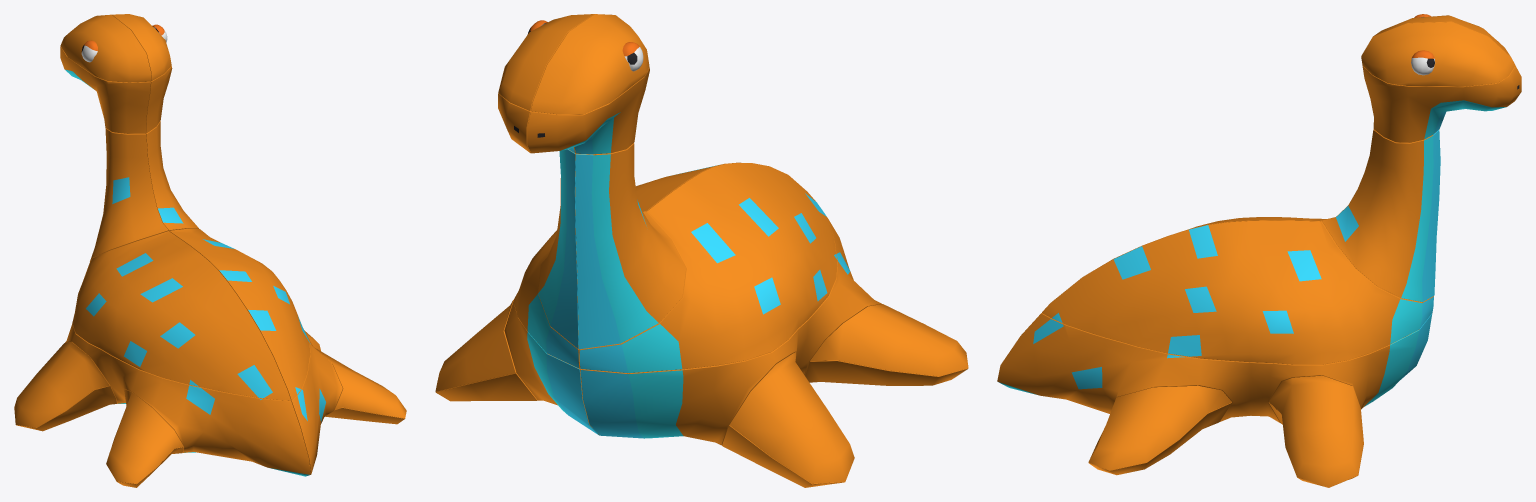
The model's file is Level_P_25.fbx.
3 renders of one model, left to right at view 1: azimuth 30°, elevation 25°; view 2: azimuth 150°, elevation 25°; view 3: azimuth 270°, elevation 25°, orthographic. The views are drawn at different scales.
Parts seen in each view (by area): view 1: Battle_Dino_6, Battle_Dino_5, Battle_Dino_13, Battle_Dino_8, Battle_Dino_1, Battle_Dino_7, Battle_Dino_2, Battle_Dino_9, Battle_Dino_14, Battle_Dino_17, Battle_Dino_11, Battle_Dino_12 (+3 smaller); view 2: Battle_Dino_6, Battle_Dino_8, Battle_Dino_5, Battle_Dino_1, Battle_Dino_7, Battle_Dino_2, Battle_Dino_9, Battle_Dino_11, Battle_Dino_14, Battle_Dino_13, Battle_Dino_12, Battle_Dino_18 (+4 smaller); view 3: Battle_Dino_13, Battle_Dino_14, Battle_Dino_11, Battle_Dino_18, Battle_Dino_12, Battle_Dino_17, Battle_Dino_10, Battle_Dino_15, Battle_Dino_7, Battle_Dino_6.
Boxes of the visible parts, x1,y1,x2,y2 form: Battle_Dino_6: (72,231,290,400); Battle_Dino_5: (65,323,310,476); Battle_Dino_13: (169,228,310,400); Battle_Dino_8: (90,128,168,261); Battle_Dino_1: (14,342,109,427); Battle_Dino_7: (60,14,151,82); Battle_Dino_2: (106,389,183,483); Battle_Dino_9: (60,46,150,133); Battle_Dino_14: (291,332,342,474); Battle_Dino_17: (315,348,406,418); Battle_Dino_11: (146,121,198,230); Battle_Dino_12: (97,14,171,81); Battle_Dino_6: (579,163,837,373); Battle_Dino_8: (575,143,686,349); Battle_Dino_5: (580,216,881,445); Battle_Dino_1: (729,352,854,483); Battle_Dino_7: (531,14,649,114); Battle_Dino_2: (810,304,968,376); Battle_Dino_9: (527,67,649,154); Battle_Dino_11: (538,149,645,348); Battle_Dino_14: (504,291,599,435); Battle_Dino_13: (514,162,752,368); Battle_Dino_12: (498,14,611,110); Battle_Dino_18: (435,299,516,391); Battle_Dino_13: (1042,220,1433,364); Battle_Dino_14: (997,313,1432,423); Battle_Dino_11: (1322,129,1440,302); Battle_Dino_18: (1268,375,1363,487); Battle_Dino_12: (1361,22,1515,86); Battle_Dino_17: (1088,385,1231,470); Battle_Dino_10: (1362,66,1521,142); Battle_Dino_15: (1089,402,1231,475); Battle_Dino_7: (1361,14,1513,61); Battle_Dino_6: (1042,217,1326,312).
Bounding box in the file's own units: 566 × 612 × 748.
